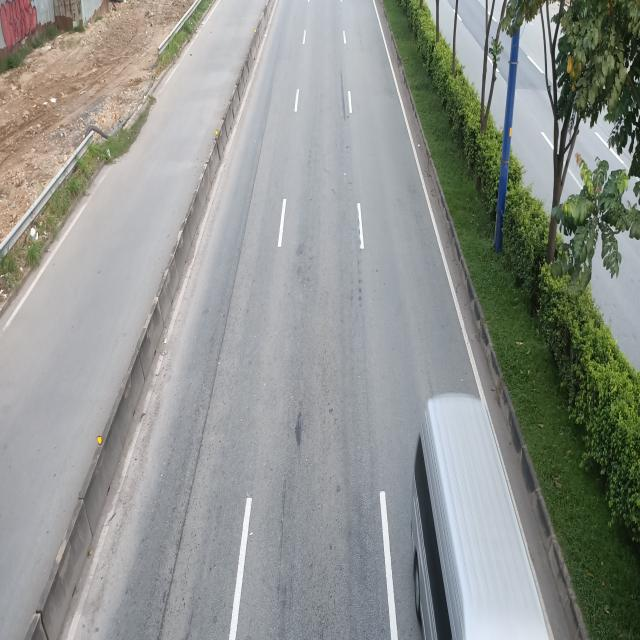van: (409, 398, 575, 640)
